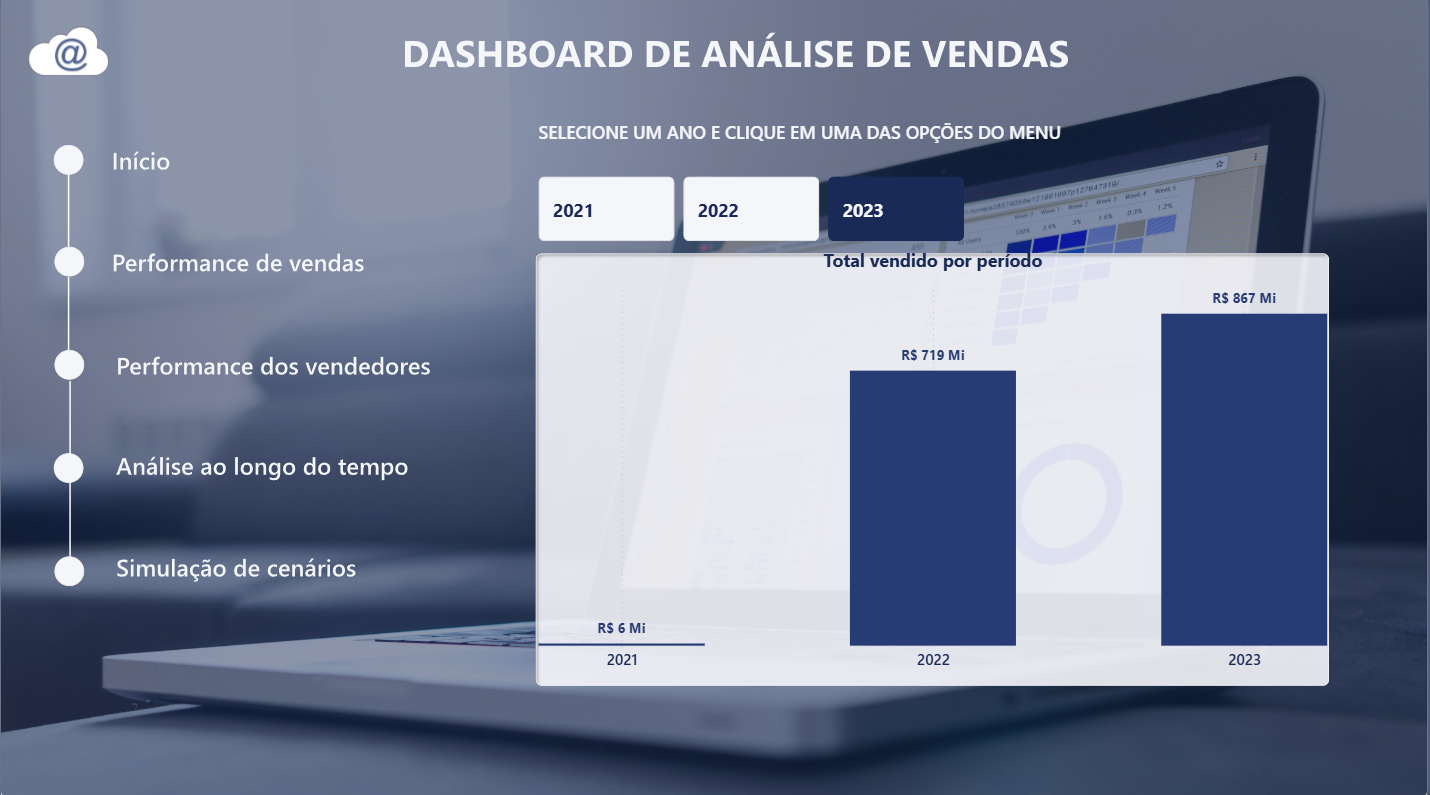

This screenshot's page, from the dashboard's own definition file:
{"tool":"powerbi","page":{"name":"inicio","canvas":[1280,720],"ordinal":0},"visuals":[{"type":"textbox","box":[477.7,107.1,538.2,39.5],"z":0},{"type":"lineClusteredColumnComboChart","title":"Total vendido por período","fields":{"Category":["dCalendario.Ano"],"Y":["Medidas.Total vendido"]},"box":[477.4,226.9,718.1,388],"z":1000},{"type":"advancedSlicerVisual","fields":{"Values":["dCalendario.Data.Variation.Hierarquia de datas.Ano"]},"box":[477.4,158.2,393.9,68.8],"z":2000},{"type":"pageNavigator","box":[79.6,126.7,353.6,416.5],"z":2001}]}

Visuals, with their boxes in screenshot pixels (x1, y1, x2, y2), scaled from the page's 1280x720 canvas onto the 1430x795 screenshot:
textbox: l=534, t=118, r=1135, b=162
"Total vendido por período" lineClusteredColumnComboChart: l=533, t=251, r=1336, b=679
advancedSlicerVisual - dCalendario.Data.Variation.Hierarquia de datas.Ano: l=533, t=175, r=973, b=251
pageNavigator: l=89, t=140, r=484, b=600
